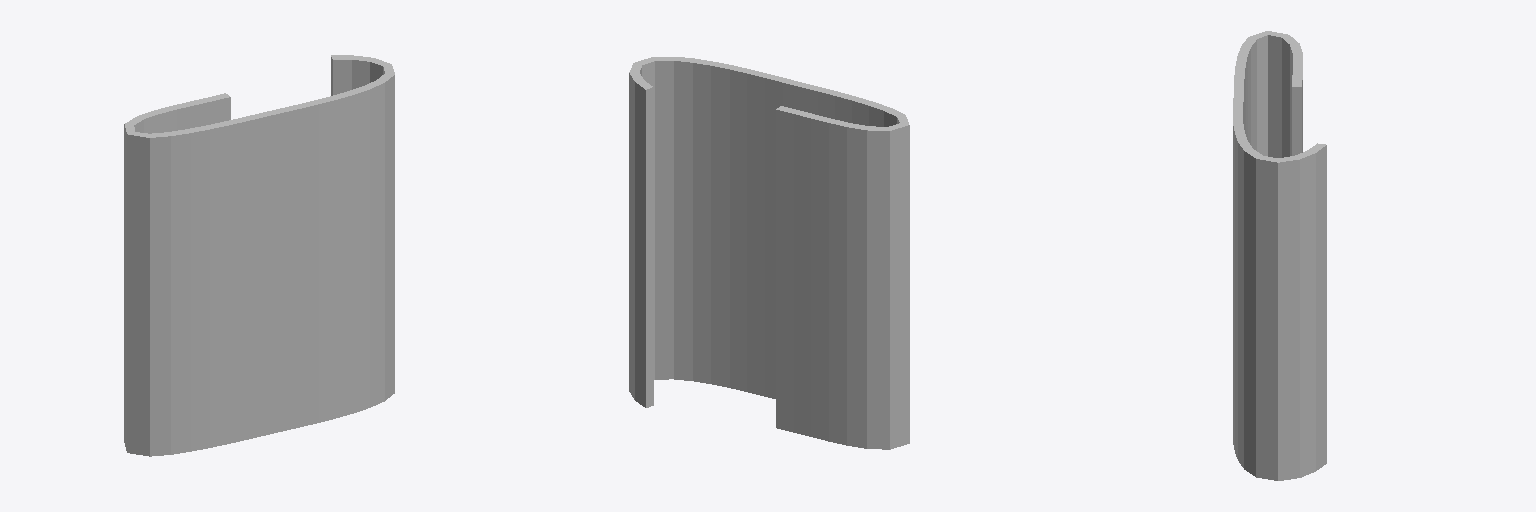
The model's file is Scroll3.obj.
The picture shows the model from 3 angles: view 1: azimuth 30°, elevation 25°; view 2: azimuth 150°, elevation 25°; view 3: azimuth 270°, elevation 25°; orthographic projection.
Parts seen in each view (by area): view 1: Cube_Cube.001; view 2: Cube_Cube.001; view 3: Cube_Cube.001.
Boxes of the visible parts, x1=… form: Cube_Cube.001: x1=124, y1=55, x2=394, y2=456; Cube_Cube.001: x1=629, y1=57, x2=909, y2=449; Cube_Cube.001: x1=1233, y1=31, x2=1326, y2=480.
Size of the model in its own units: 4.1 by 4.62 by 1.24.